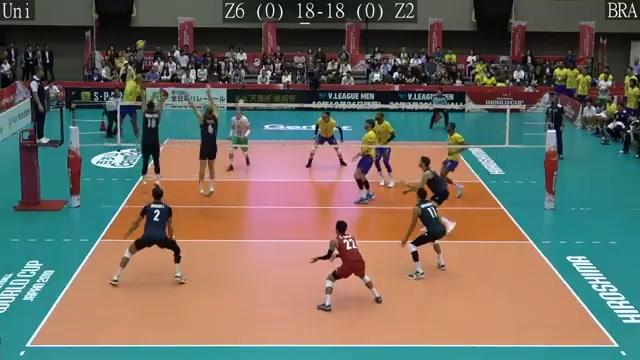ball: (132, 38, 147, 51)
